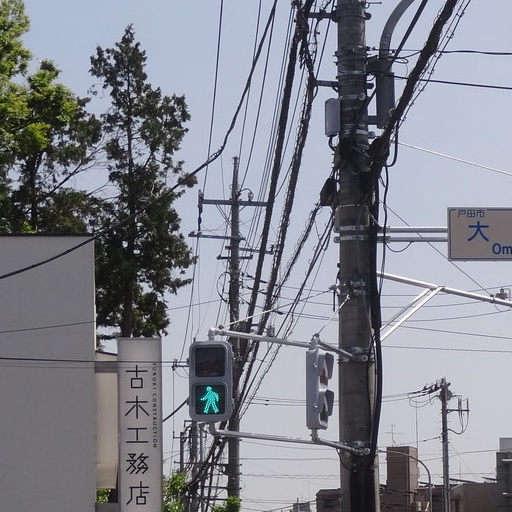Pedestrian_Signal_Blue: (186, 336, 233, 419)
